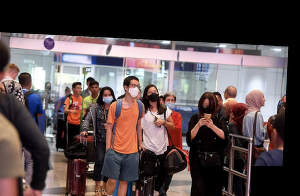with_mask: (126, 82, 140, 99), (145, 89, 158, 103), (200, 102, 213, 115), (101, 92, 113, 105), (163, 97, 175, 110), (43, 83, 50, 91)
without_mask: (89, 84, 99, 95), (73, 85, 81, 95), (260, 93, 265, 107), (134, 89, 140, 100), (157, 98, 164, 107)
